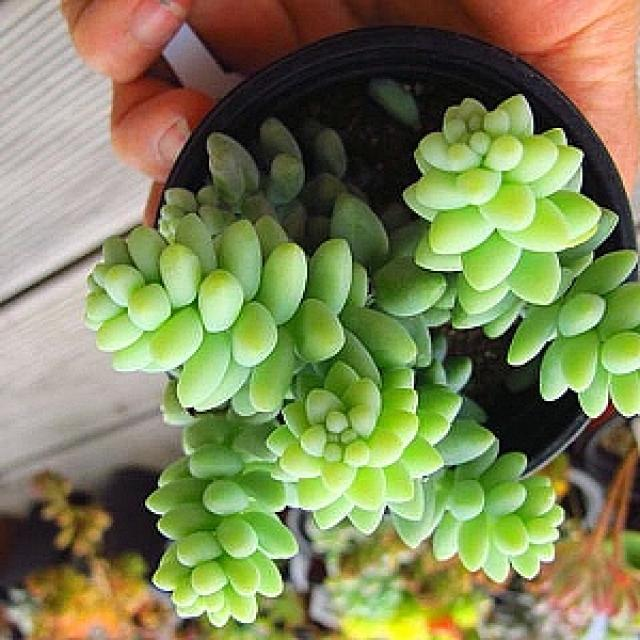Sedum: (86, 212, 329, 415), (265, 306, 476, 534), (404, 94, 602, 305), (146, 381, 298, 626), (390, 412, 564, 581), (508, 251, 640, 418)
